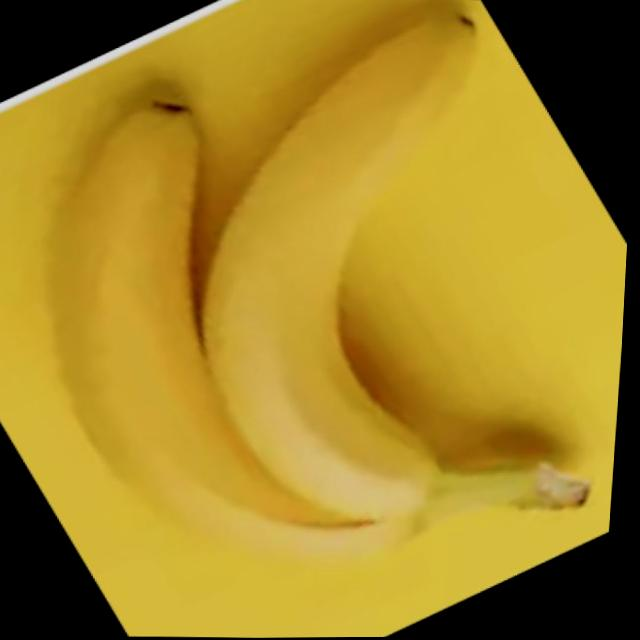Apple: (0, 0, 640, 640)
Banana: (46, 6, 612, 563)
